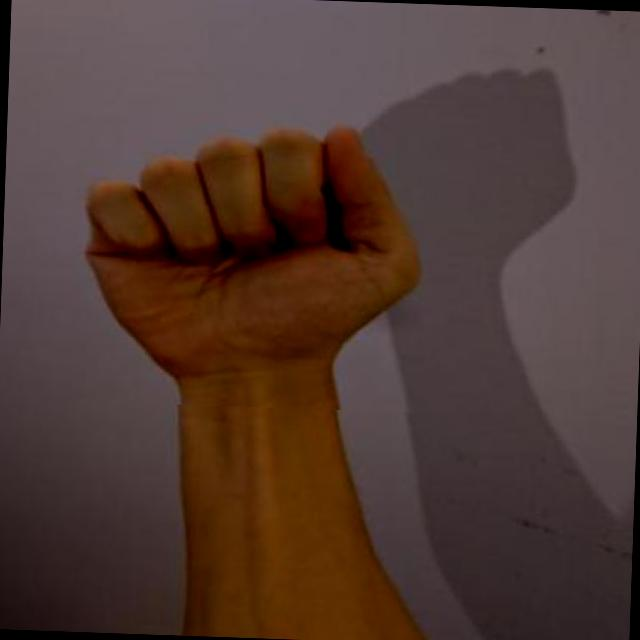A: (61, 97, 439, 413)
